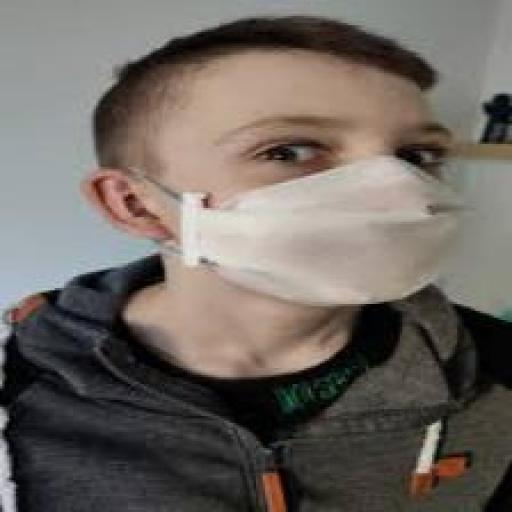mask: (172, 164, 492, 331)
